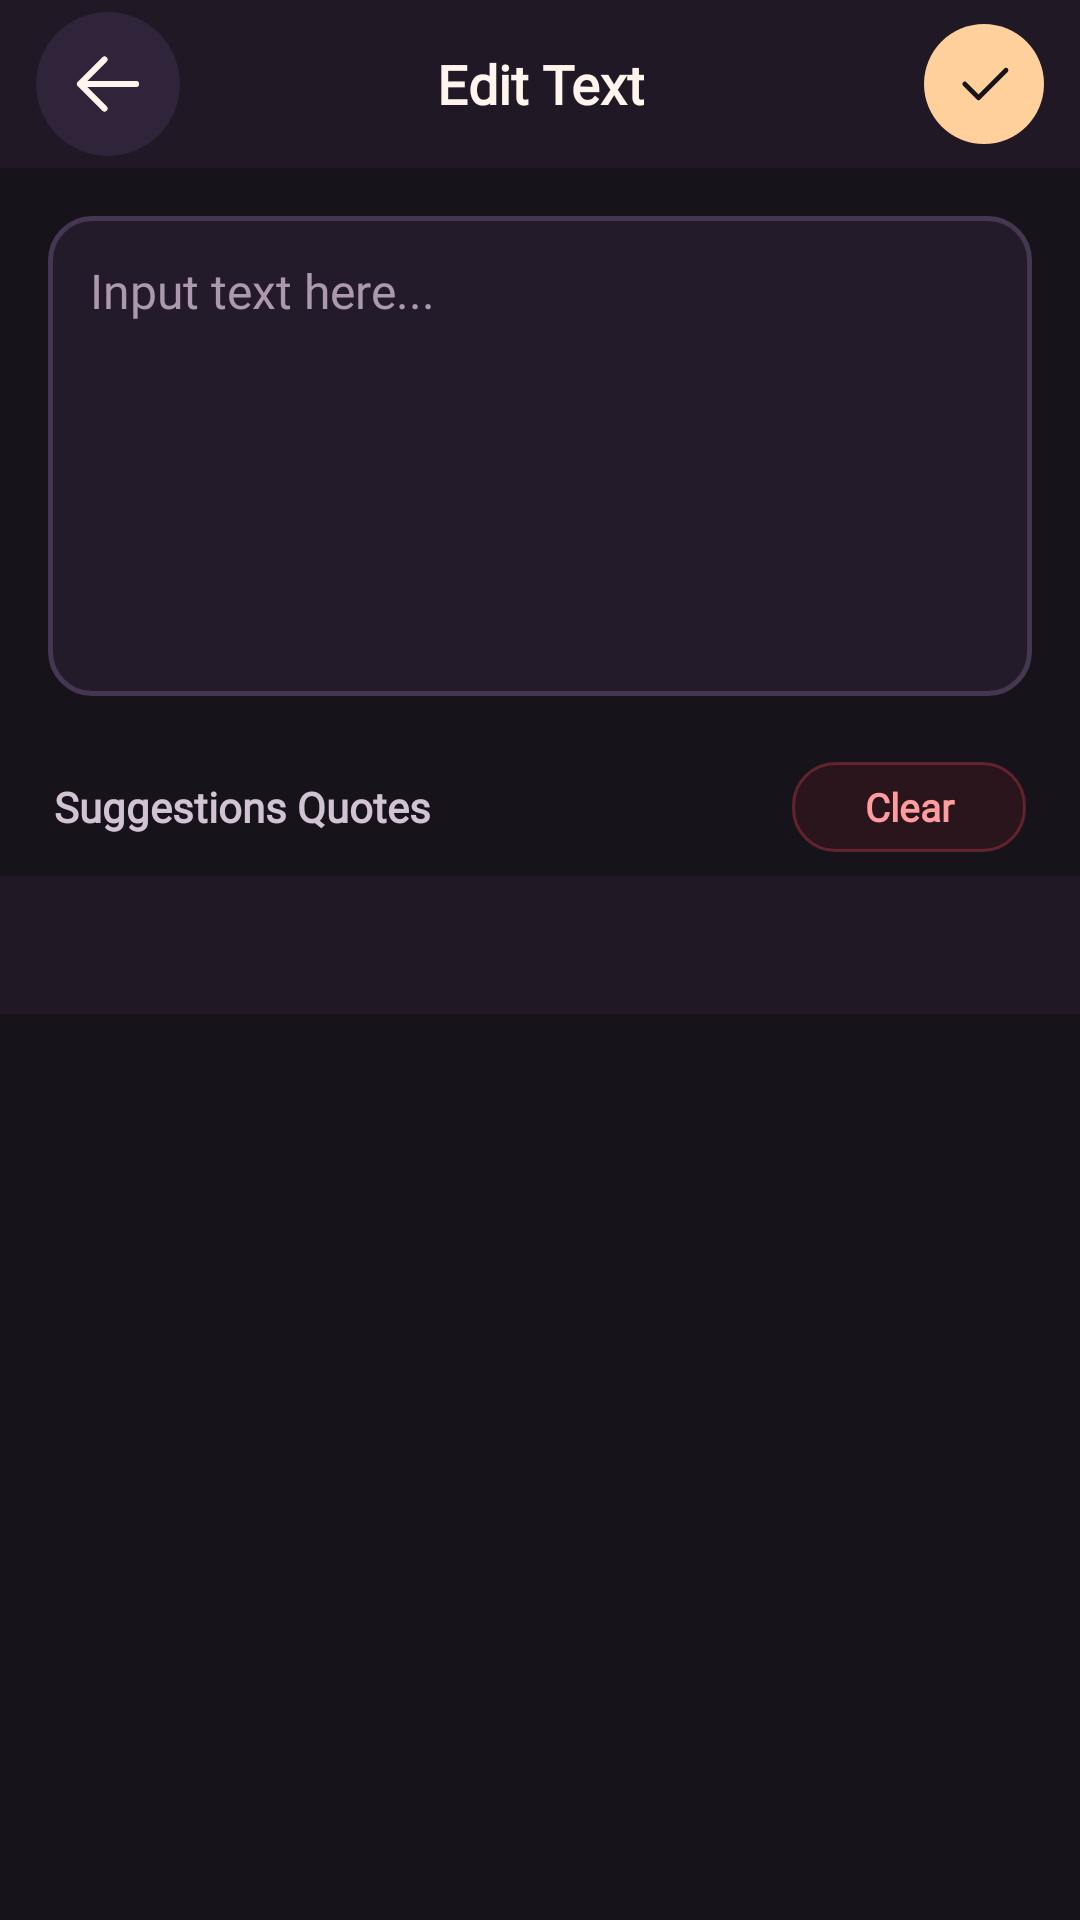

Icons on this 1080x1920 Android screen, each with its box as (x1,y1,x2,y2):
Back: (36,12,180,156)
Done: (924,24,1044,144)
